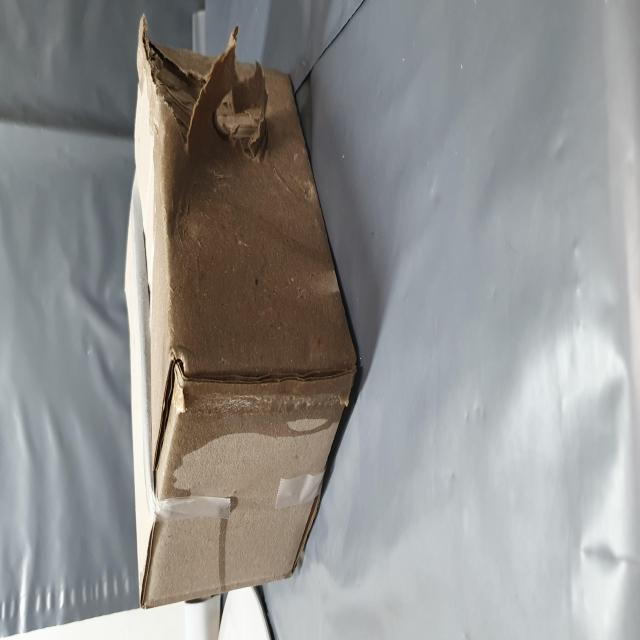wet: (69, 238, 345, 628)
